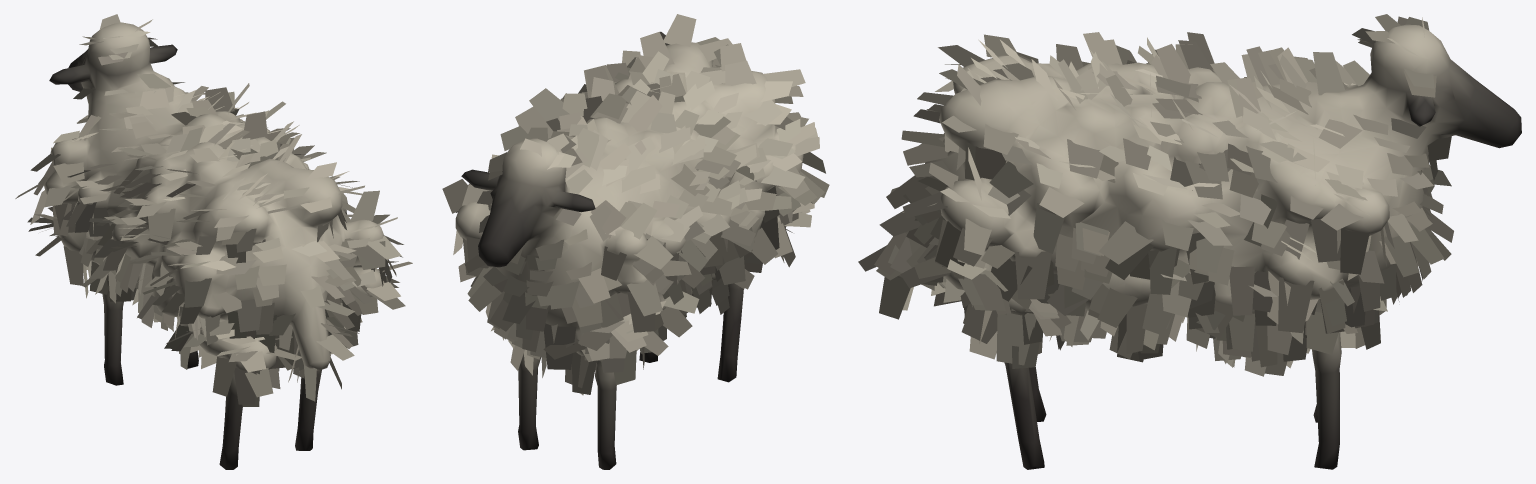
File: animale_pecora_1.glb
3 renders of one model, left to right at view 1: azimuth 30°, elevation 25°; view 2: azimuth 150°, elevation 25°; view 3: azimuth 270°, elevation 25°, orthographic. The views are drawn at different scales.
Visible parts, largest first — view 1: animale_pecora_1; view 2: animale_pecora_1; view 3: animale_pecora_1.
Part boxes in pixels (bbox=[...]): animale_pecora_1: bbox=[15, 14, 412, 469]; animale_pecora_1: bbox=[442, 14, 829, 469]; animale_pecora_1: bbox=[858, 14, 1521, 469].
Size of the model in its own units: 0.7697 by 1.01 by 1.44.
